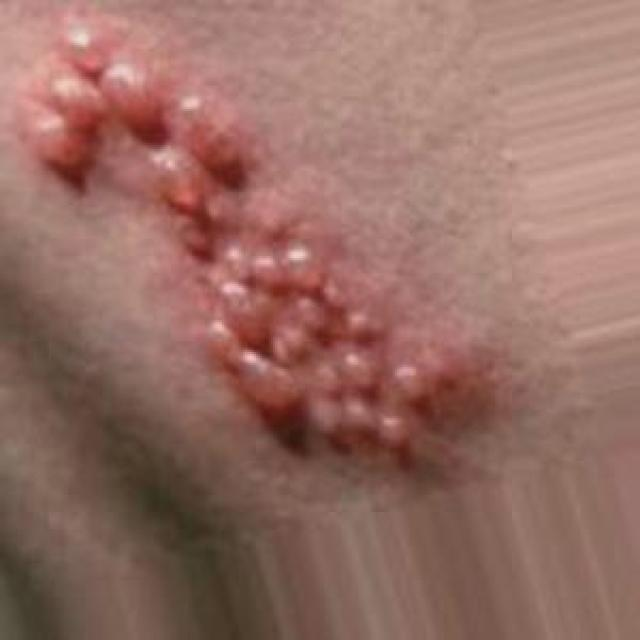Shingles: (34, 23, 434, 464)
